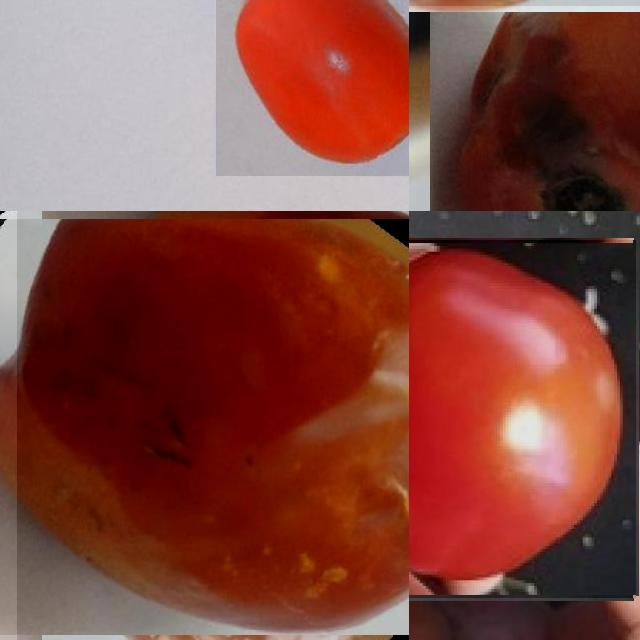0: (409, 240, 636, 598)
Fresh Tomato: (215, 0, 409, 176)
Rotten Tomato: (16, 211, 409, 640), (415, 0, 640, 211)
